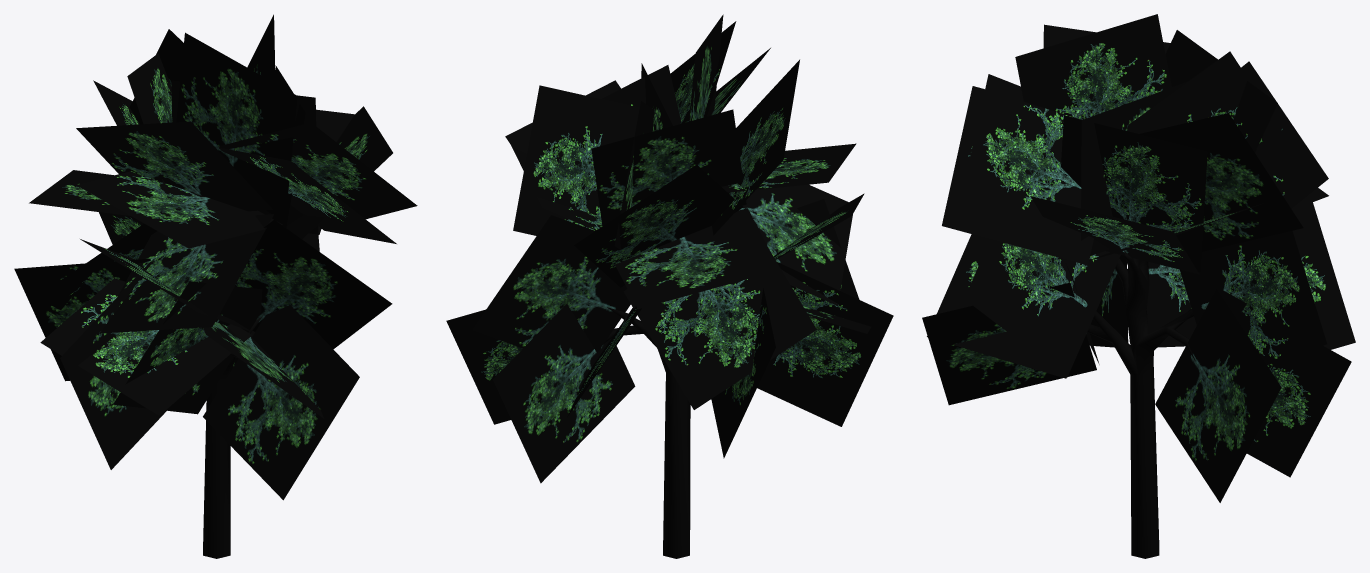
Rendered from tree55.glb.
3 renders of one model, left to right at view 1: azimuth 30°, elevation 25°; view 2: azimuth 150°, elevation 25°; view 3: azimuth 270°, elevation 25°, orthographic. The views are drawn at different scales.
Bounding box in the file's own units: 4.89 × 6.82 × 5.1.
2 materials, 1 textured.
